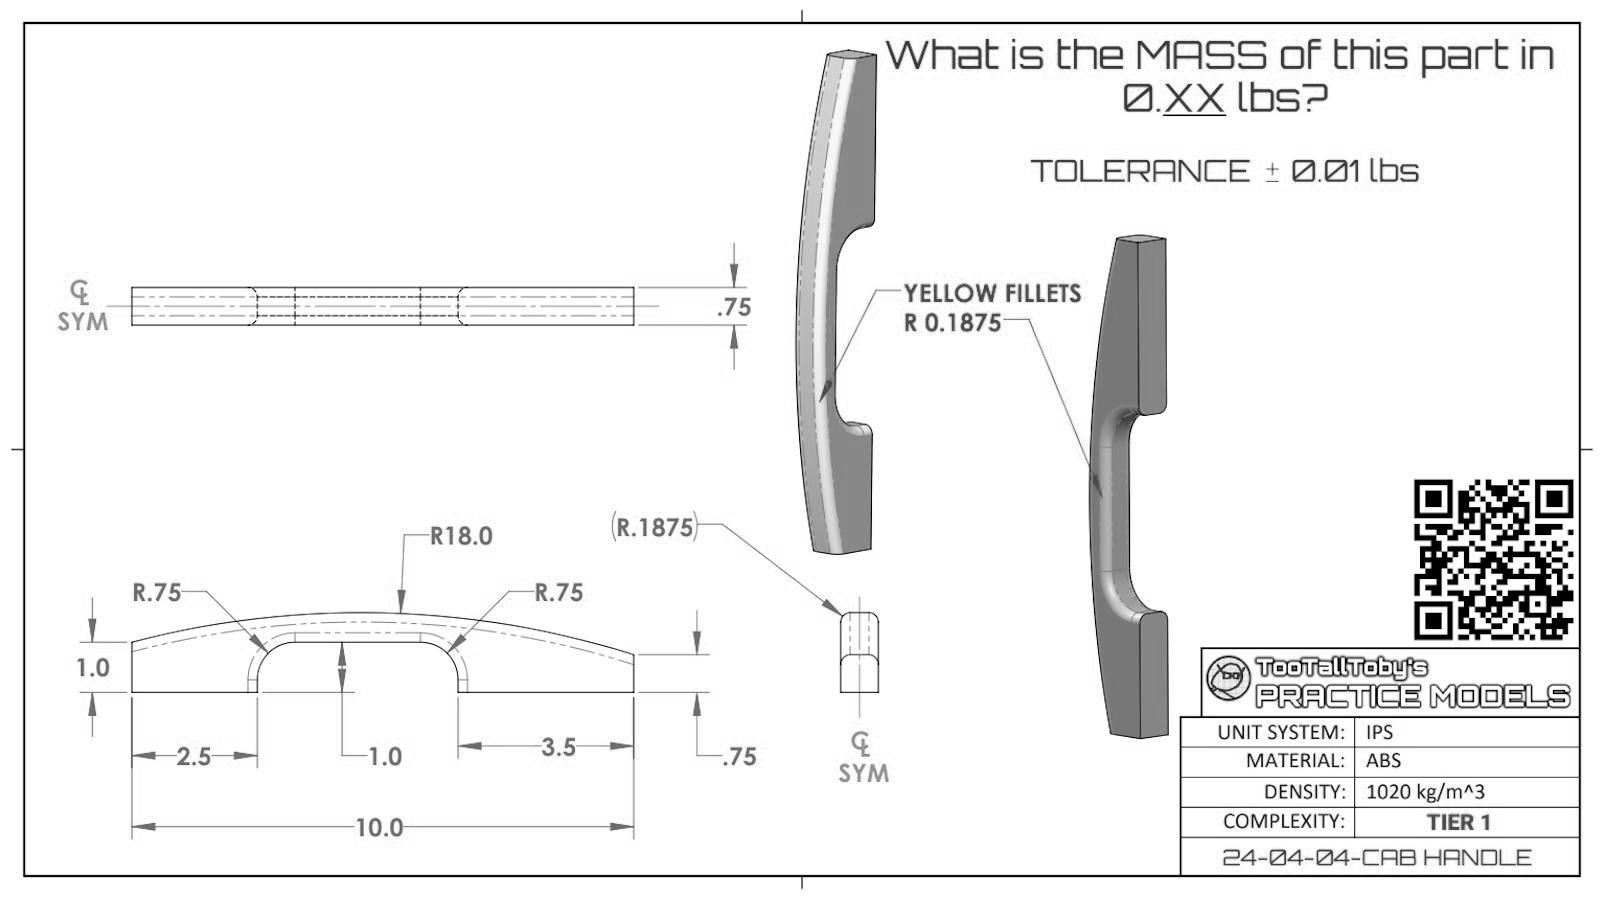-: (1266, 160, 1279, 185)
0: (1123, 82, 1154, 113), (1291, 159, 1316, 185), (1323, 158, 1348, 184), (923, 312, 938, 332), (97, 656, 110, 677), (389, 818, 403, 836), (389, 746, 402, 765), (480, 525, 492, 545), (1399, 781, 1411, 801), (369, 818, 381, 836), (1377, 781, 1388, 799)
1: (1349, 157, 1359, 184), (947, 310, 956, 334), (445, 525, 455, 546), (369, 746, 379, 766), (356, 816, 366, 836), (638, 516, 647, 537), (1367, 782, 1377, 799), (77, 656, 85, 677)
2: (176, 745, 190, 767), (1389, 784, 1399, 799)
3: (542, 736, 555, 757)
5: (197, 746, 212, 767), (737, 296, 752, 318), (569, 582, 585, 602), (743, 745, 757, 766), (679, 516, 692, 538), (564, 735, 576, 758), (168, 581, 181, 601), (989, 312, 1001, 332)
7: (556, 580, 570, 602), (974, 312, 988, 333), (730, 745, 743, 767), (154, 581, 167, 602), (724, 297, 736, 318), (667, 518, 679, 536)
8: (959, 312, 974, 333), (458, 524, 471, 545), (652, 518, 665, 536)
ABS: (1365, 752, 1405, 770)
Coma: (471, 540, 479, 547), (938, 325, 945, 334), (1316, 177, 1323, 185), (718, 310, 724, 316), (631, 532, 637, 538), (549, 596, 555, 603), (557, 751, 563, 758), (1156, 107, 1162, 114), (147, 596, 153, 602), (89, 671, 95, 678), (191, 760, 197, 767), (384, 831, 389, 837), (723, 760, 729, 767), (382, 762, 388, 767)
Density: (1264, 782, 1347, 801)
IPS: (1366, 722, 1395, 741)
Material: (1244, 752, 1347, 769)
Radius: (903, 311, 919, 333), (430, 524, 443, 546), (133, 581, 145, 603), (618, 518, 630, 537), (536, 582, 547, 603)
SYM: (56, 310, 111, 333), (837, 762, 891, 784)
Symmetry: (851, 729, 873, 759), (69, 278, 91, 307)
UnitSystem: (1216, 722, 1347, 743)
X: (1165, 81, 1195, 113), (1196, 81, 1224, 112)
lbs: (1237, 79, 1302, 113), (1368, 157, 1421, 185)
